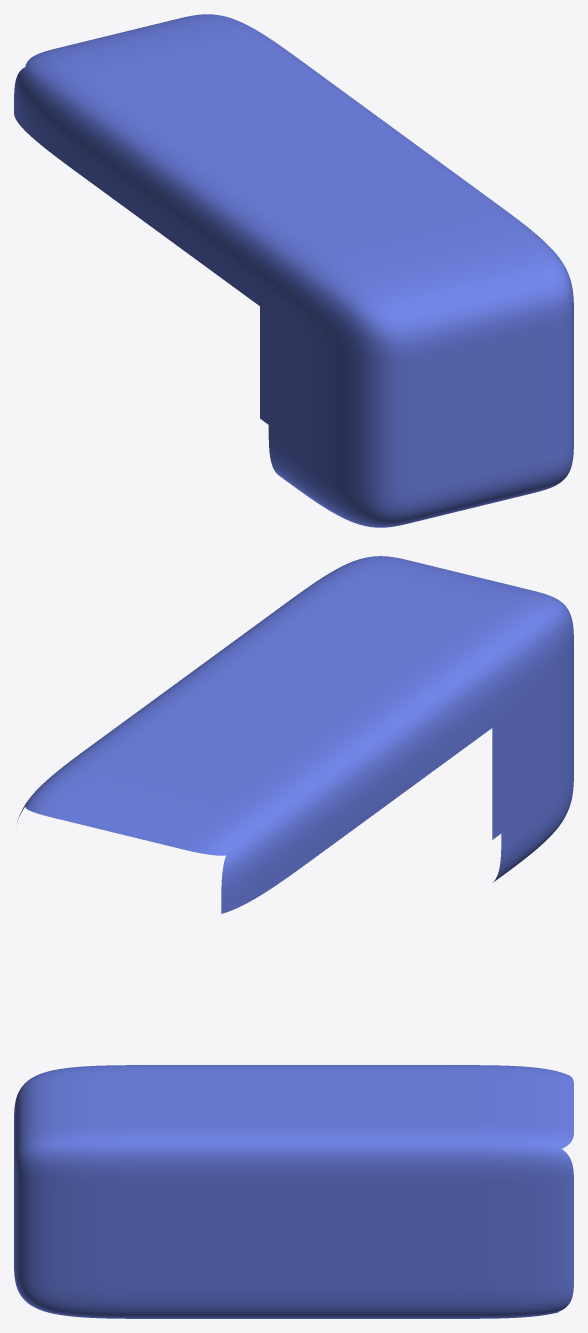
The model's file is 01_vertex_count_32bit.gltf.
3 views of the same model, one above another, from view 1: azimuth 30°, elevation 25°; view 2: azimuth 150°, elevation 25°; view 3: azimuth 270°, elevation 25° (orthographic). The views are drawn at different scales.
Visible parts, largest first — view 1: Cube; view 2: Cube; view 3: Cube.
Part boxes in pixels (x1,y1,x2,y2): Cube: (14, 14, 573, 527); Cube: (17, 556, 573, 913); Cube: (14, 1065, 573, 1318).
Bounding box in the file's own units: 2 × 2 × 5.43.
